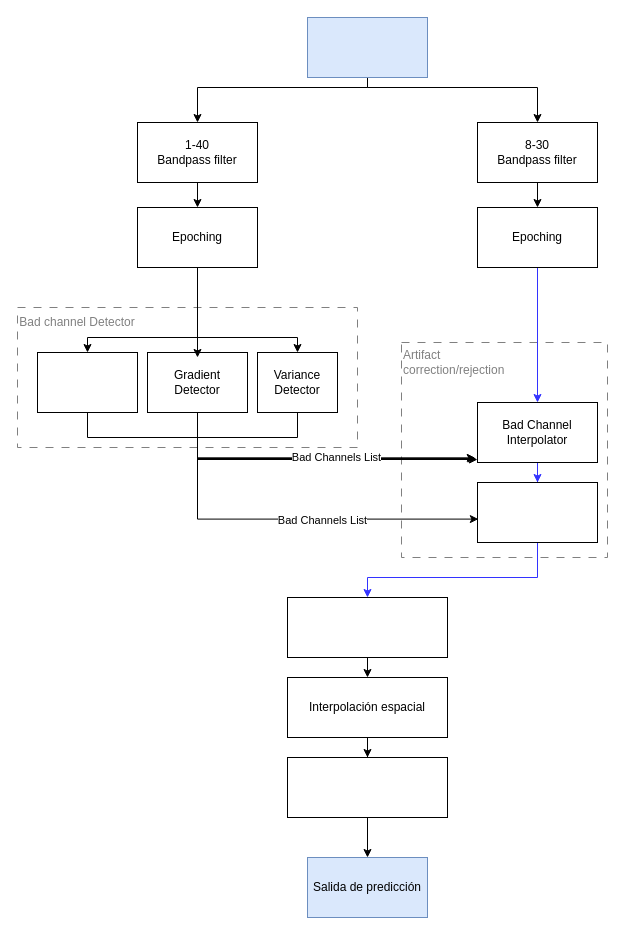
This 625x935 diagram has some shape labels left out. The shapes that lost their labels are listed below. From the top down, each one's centre as x and y in pixels, then its label:
point 367,47: Raw Data
point 87,382: Peak-to-Peak Detector
point 537,512: Bad tryal Remover
point 367,627: Alineamiento euclideo
point 367,787: MiRepNet
